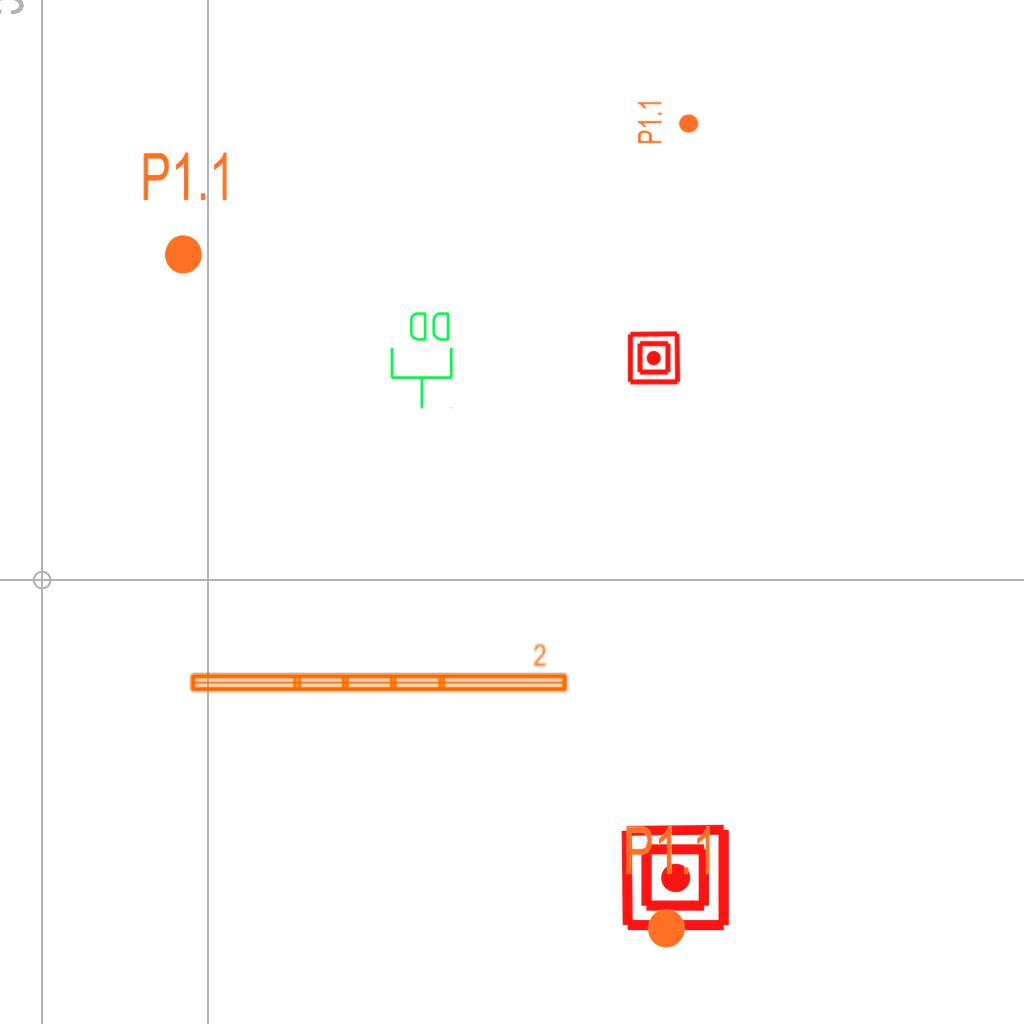Ambulanz_Pendelleuchte_LED: (185, 642, 572, 698)
Datenanschluss_zweifach: (388, 308, 457, 411)
Downlight_LED_Einbauleuchten_Flur: (140, 149, 233, 277), (623, 823, 716, 951), (636, 99, 700, 145)
NAM-Nichtautomatischer_Melder: (619, 821, 732, 934), (626, 330, 682, 386)
